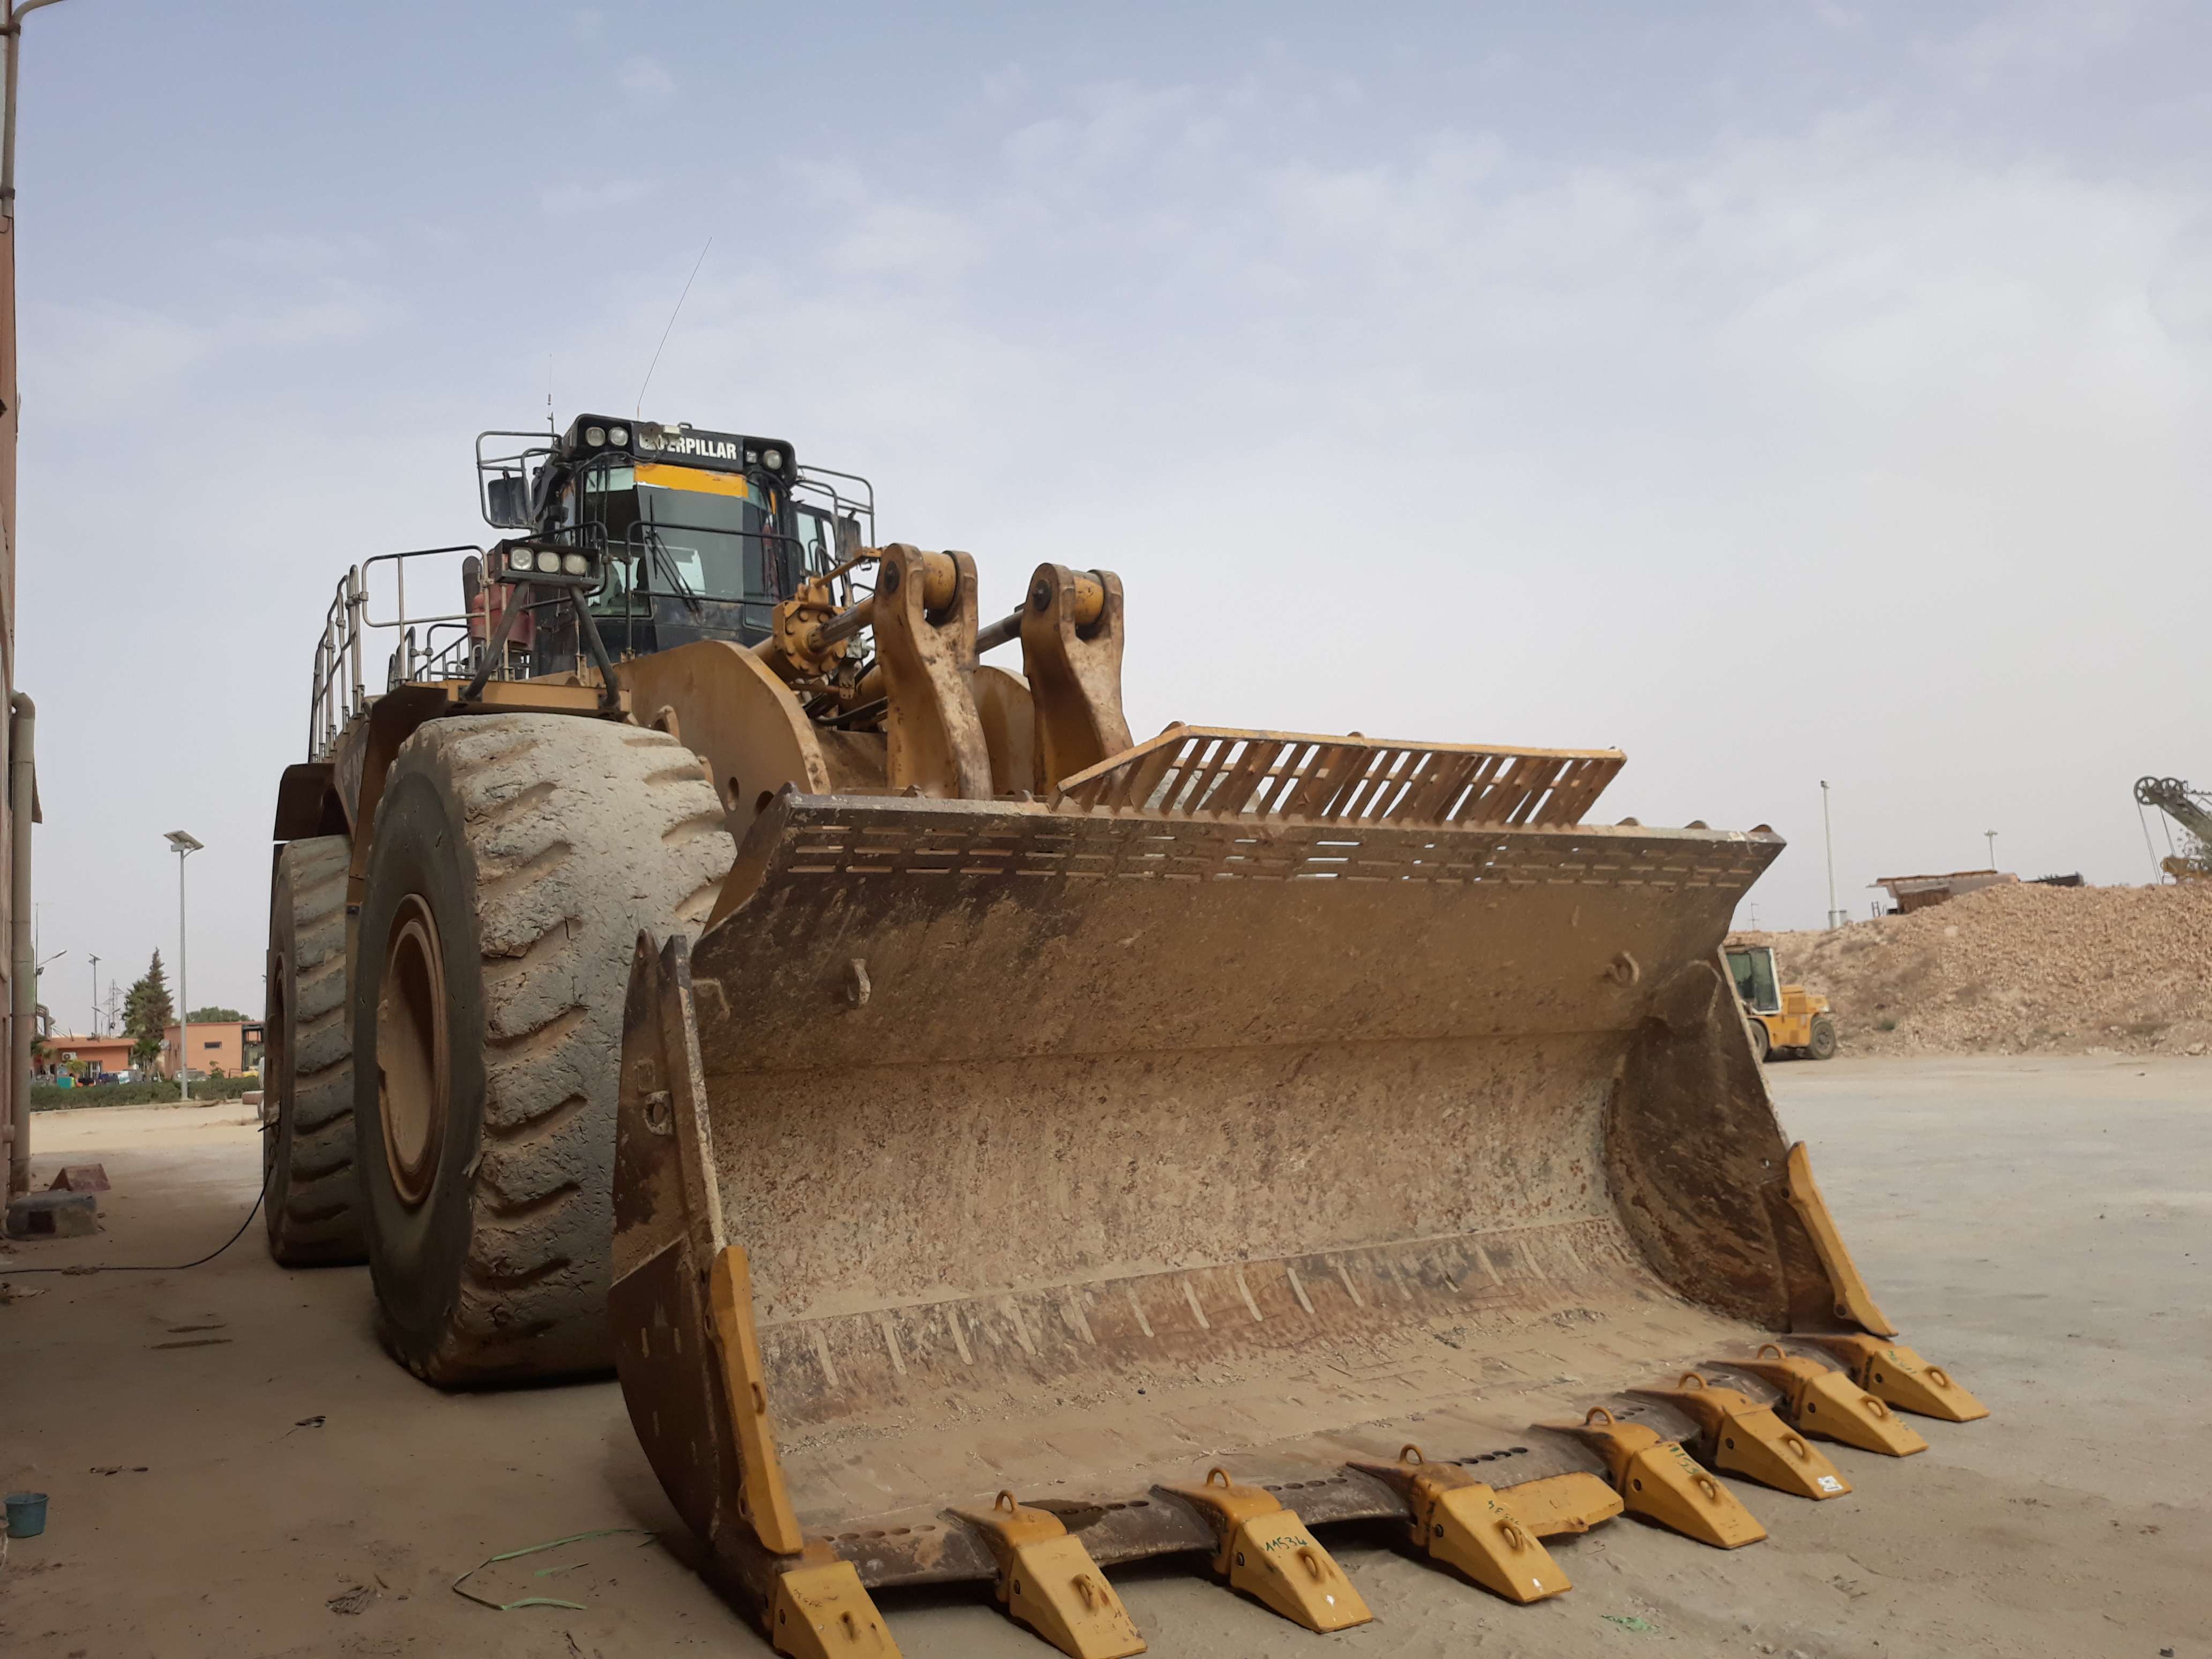chargeuse: (260, 390, 1986, 1659)
